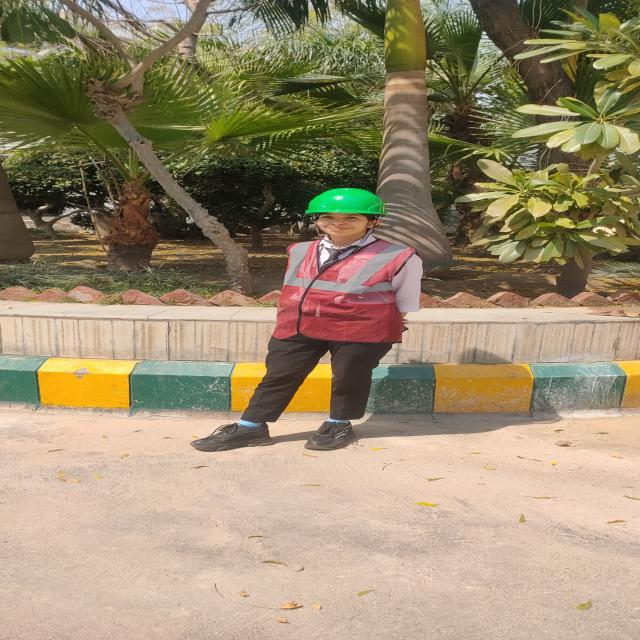safe: (190, 188, 422, 450)
